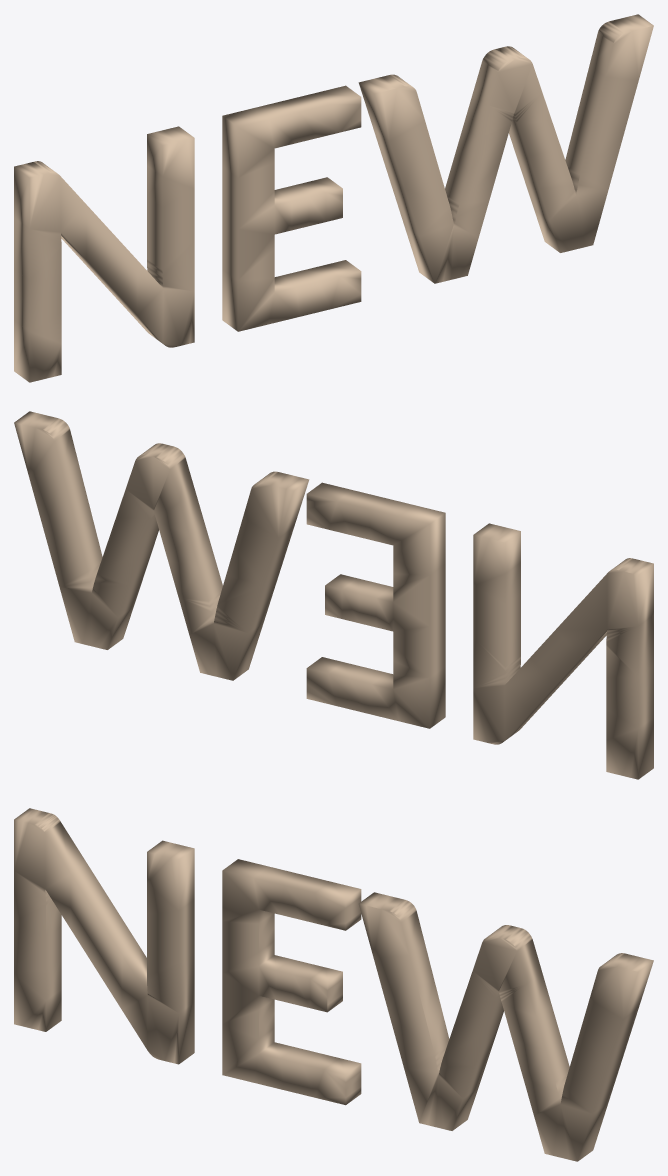
The picture shows the model from 3 angles, top to bottom: view 1: azimuth 30°, elevation 25°; view 2: azimuth 150°, elevation 25°; view 3: azimuth 330°, elevation 25°; orthographic projection.
Visible parts, largest first — view 1: text2-0; view 2: text2-0; view 3: text2-0.
Part boxes in pixels (x1=…): text2-0: x1=14, y1=14, x2=653, y2=382; text2-0: x1=14, y1=411, x2=653, y2=779; text2-0: x1=14, y1=808, x2=653, y2=1161.
Size of the model in its own units: 4.61 by 1.45 by 0.2.
